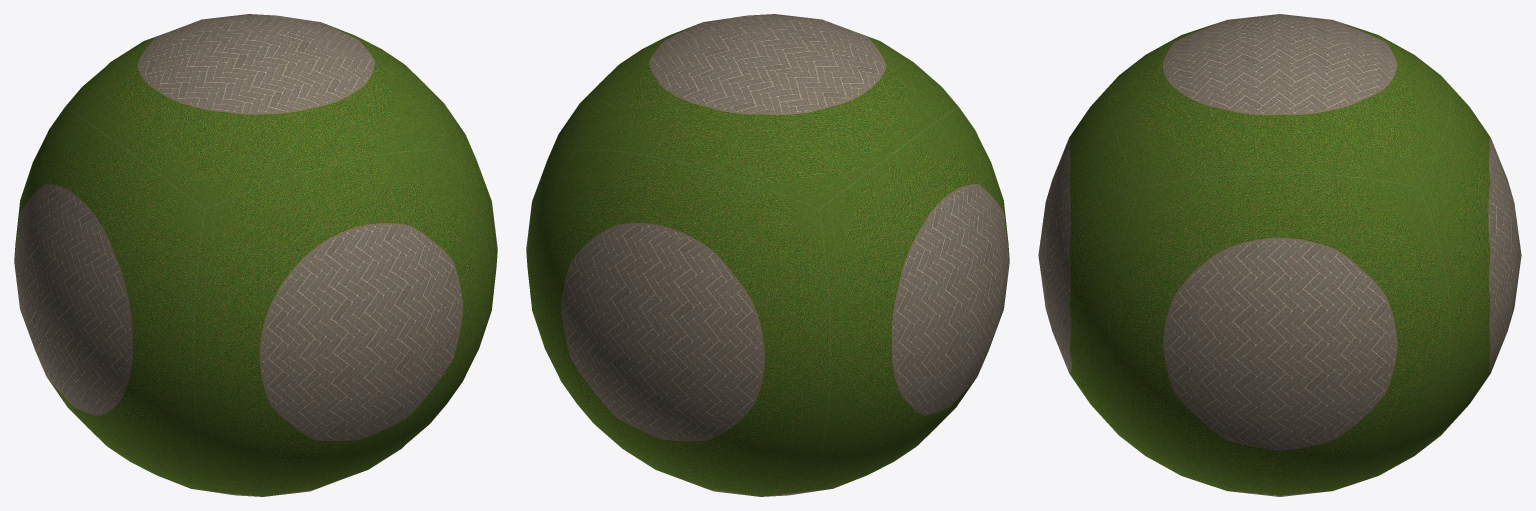
The model's file is Wworld01.FBX.
The picture shows the model from 3 angles, left to right: view 1: azimuth 30°, elevation 25°; view 2: azimuth 150°, elevation 25°; view 3: azimuth 270°, elevation 25°; orthographic projection.
Visible parts, largest first — view 1: gWorld01; view 2: gWorld01; view 3: gWorld01.
Part boxes in pixels (left/top/right/bottom): gWorld01: left=14, top=14, right=497, bottom=496; gWorld01: left=526, top=14, right=1009, bottom=496; gWorld01: left=1038, top=14, right=1521, bottom=496.
Size of the model in its own units: 2529 by 2529 by 2529.
